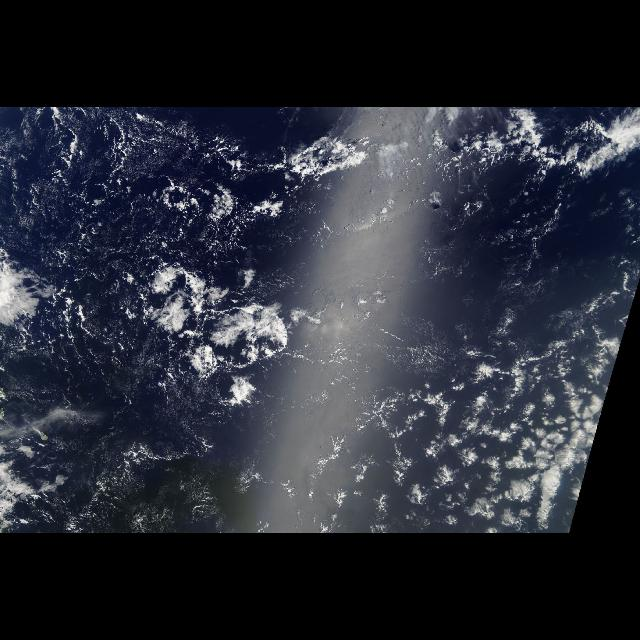Fish: (72, 223, 348, 397)
Flower: (119, 234, 634, 526)
Gravel: (5, 108, 267, 244), (99, 252, 301, 418)
Sugar: (13, 331, 255, 505)
